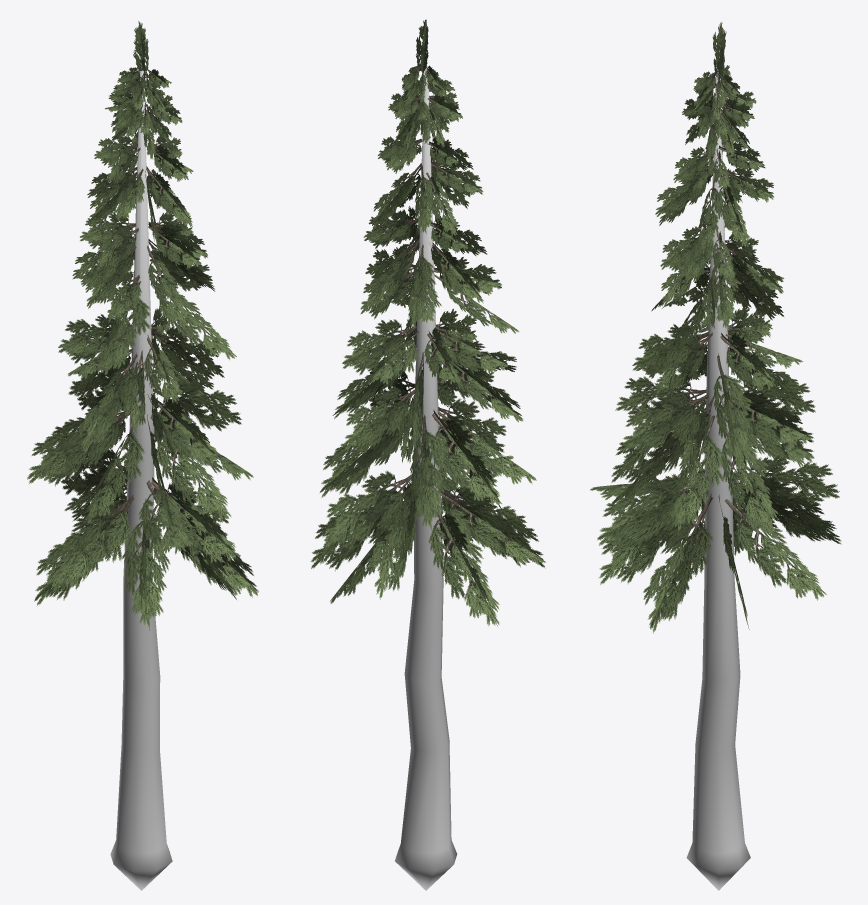
Rendered from Pine_02.fbx.
3 views of the same model, side by side, from view 1: azimuth 30°, elevation 25°; view 2: azimuth 150°, elevation 25°; view 3: azimuth 270°, elevation 25° (orthographic).
Visible parts, largest first — view 1: polySurface1; view 2: polySurface1; view 3: polySurface1.
Part boxes in pixels (left/top/right/bottom): polySurface1: left=27, top=21, right=258, bottom=890; polySurface1: left=310, top=19, right=545, bottom=890; polySurface1: left=590, top=22, right=841, bottom=890.
Size of the model in its own units: 3.89 by 14.12 by 3.97.
